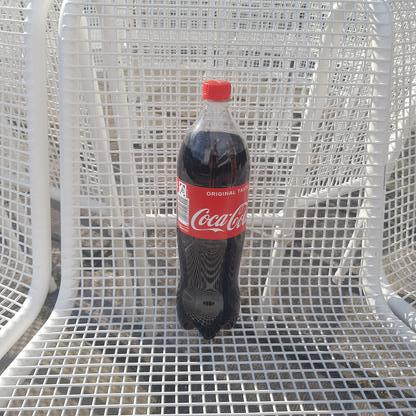coca-cola: (174, 78, 252, 344)
